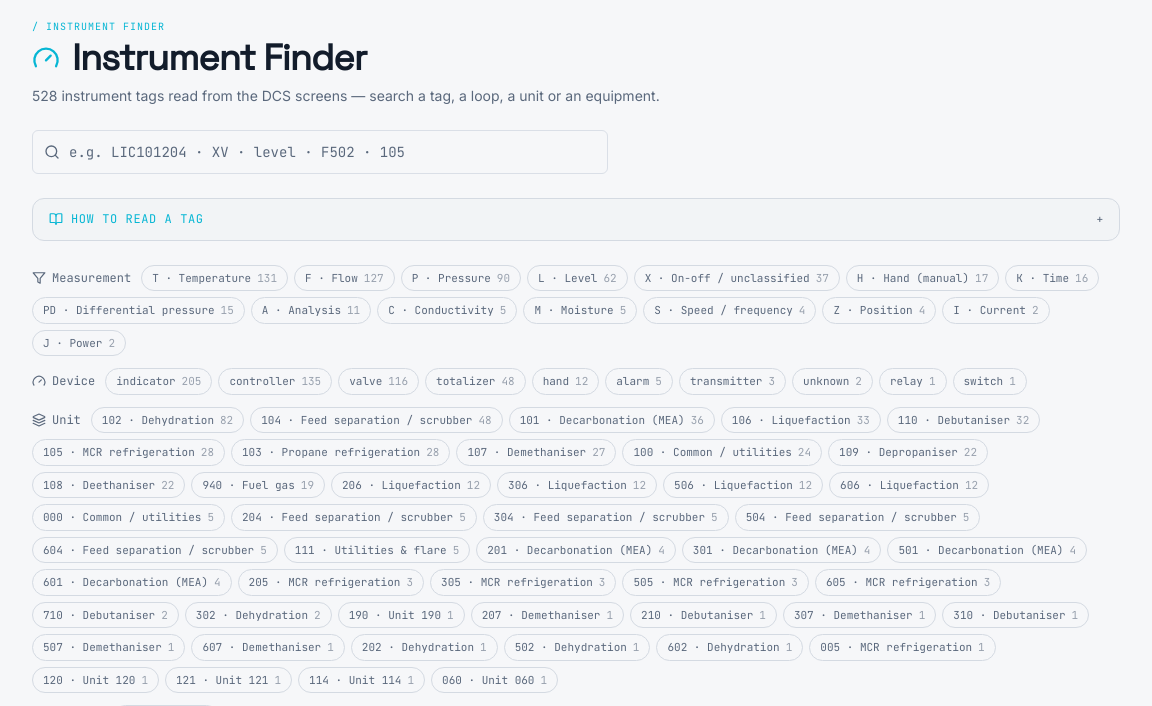
Test case: Instrument Finder › says so plainly when nothing matches
Type "ZZZZZ" into the field named "Search instruments". click: (320, 152)
box: [32,130,608,174]
(page scrolled)
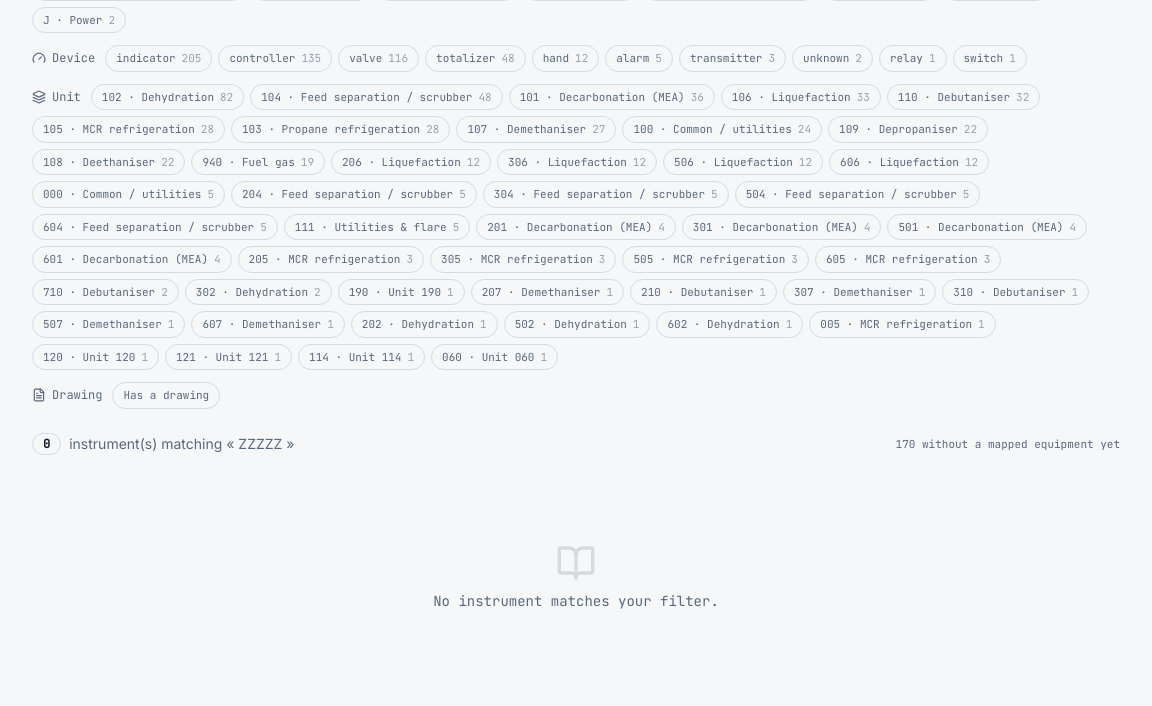
Expected: the element with test id "instrument-empty" is shown, [433,542,719,610]
